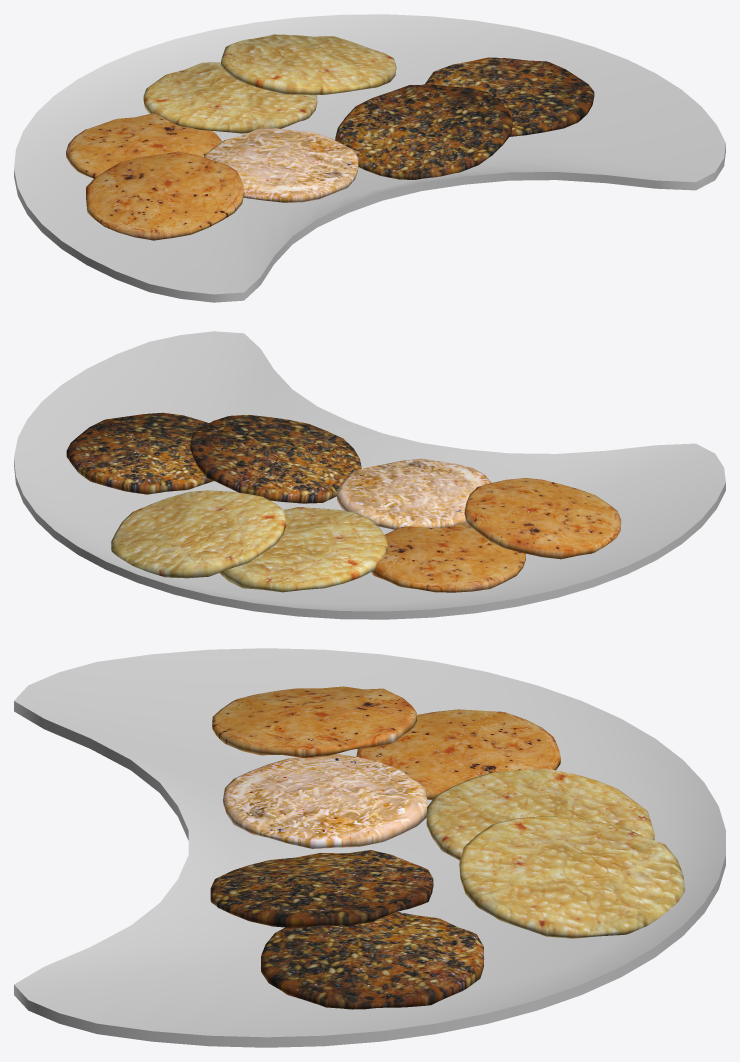
Rendered from ricecracker_bara.fbx.
3 views of the same model, one above another, from view 1: azimuth 30°, elevation 25°; view 2: azimuth 150°, elevation 25°; view 3: azimuth 270°, elevation 25° (orthographic). The views are drawn at different scales.
Visible parts, largest first — view 1: snackplate_B, senbei_C1, senbei_A1, senbei_B1, senbei_D, senbei_B, senbei_C, senbei_A; view 2: snackplate_B, senbei_B1, senbei_C1, senbei_A1, senbei_B, senbei_C, senbei_D, senbei_A; view 3: snackplate_B, senbei_B1, senbei_C, senbei_D, senbei_C1, senbei_A1, senbei_B, senbei_A.
Boxes of the visible parts, x1,y1,x2,y2 form: snackplate_B: (14,14,725,302); senbei_C1: (335,84,512,179); senbei_A1: (86,151,244,240); senbei_B1: (220,34,396,94); senbei_D: (204,128,358,202); senbei_B: (143,62,317,133); senbei_C: (424,57,594,136); senbei_A: (66,113,222,178); snackplate_B: (14,331,725,619); senbei_B1: (111,490,286,578); senbei_C1: (190,415,361,503); senbei_A1: (464,478,621,559); senbei_B: (219,507,387,592); senbei_C: (66,412,213,494); senbei_D: (337,458,491,529); senbei_A: (371,523,525,592); snackplate_B: (14,648,725,1047); senbei_B1: (459,816,685,938); senbei_C: (261,912,484,1009); senbei_D: (223,754,427,848); senbei_C1: (210,850,433,928); senbei_A1: (212,686,416,758); senbei_B: (426,768,654,860); senbei_A: (356,709,560,800).
Size of the model in its own units: 24 by 1.9 by 18.56.
Materials: 2 (1 with a texture image).
